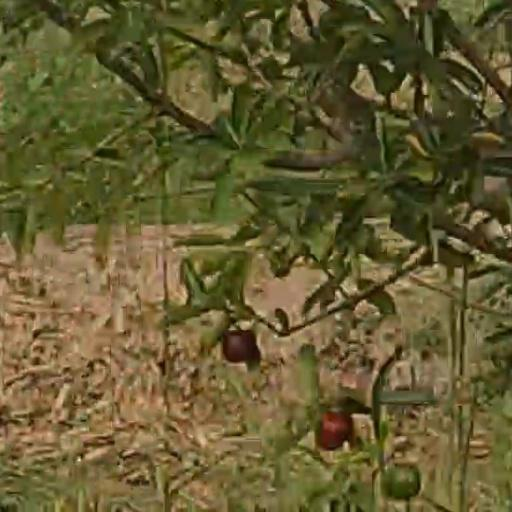acerola: (384, 468, 419, 501), (320, 414, 352, 449), (224, 332, 256, 363)
